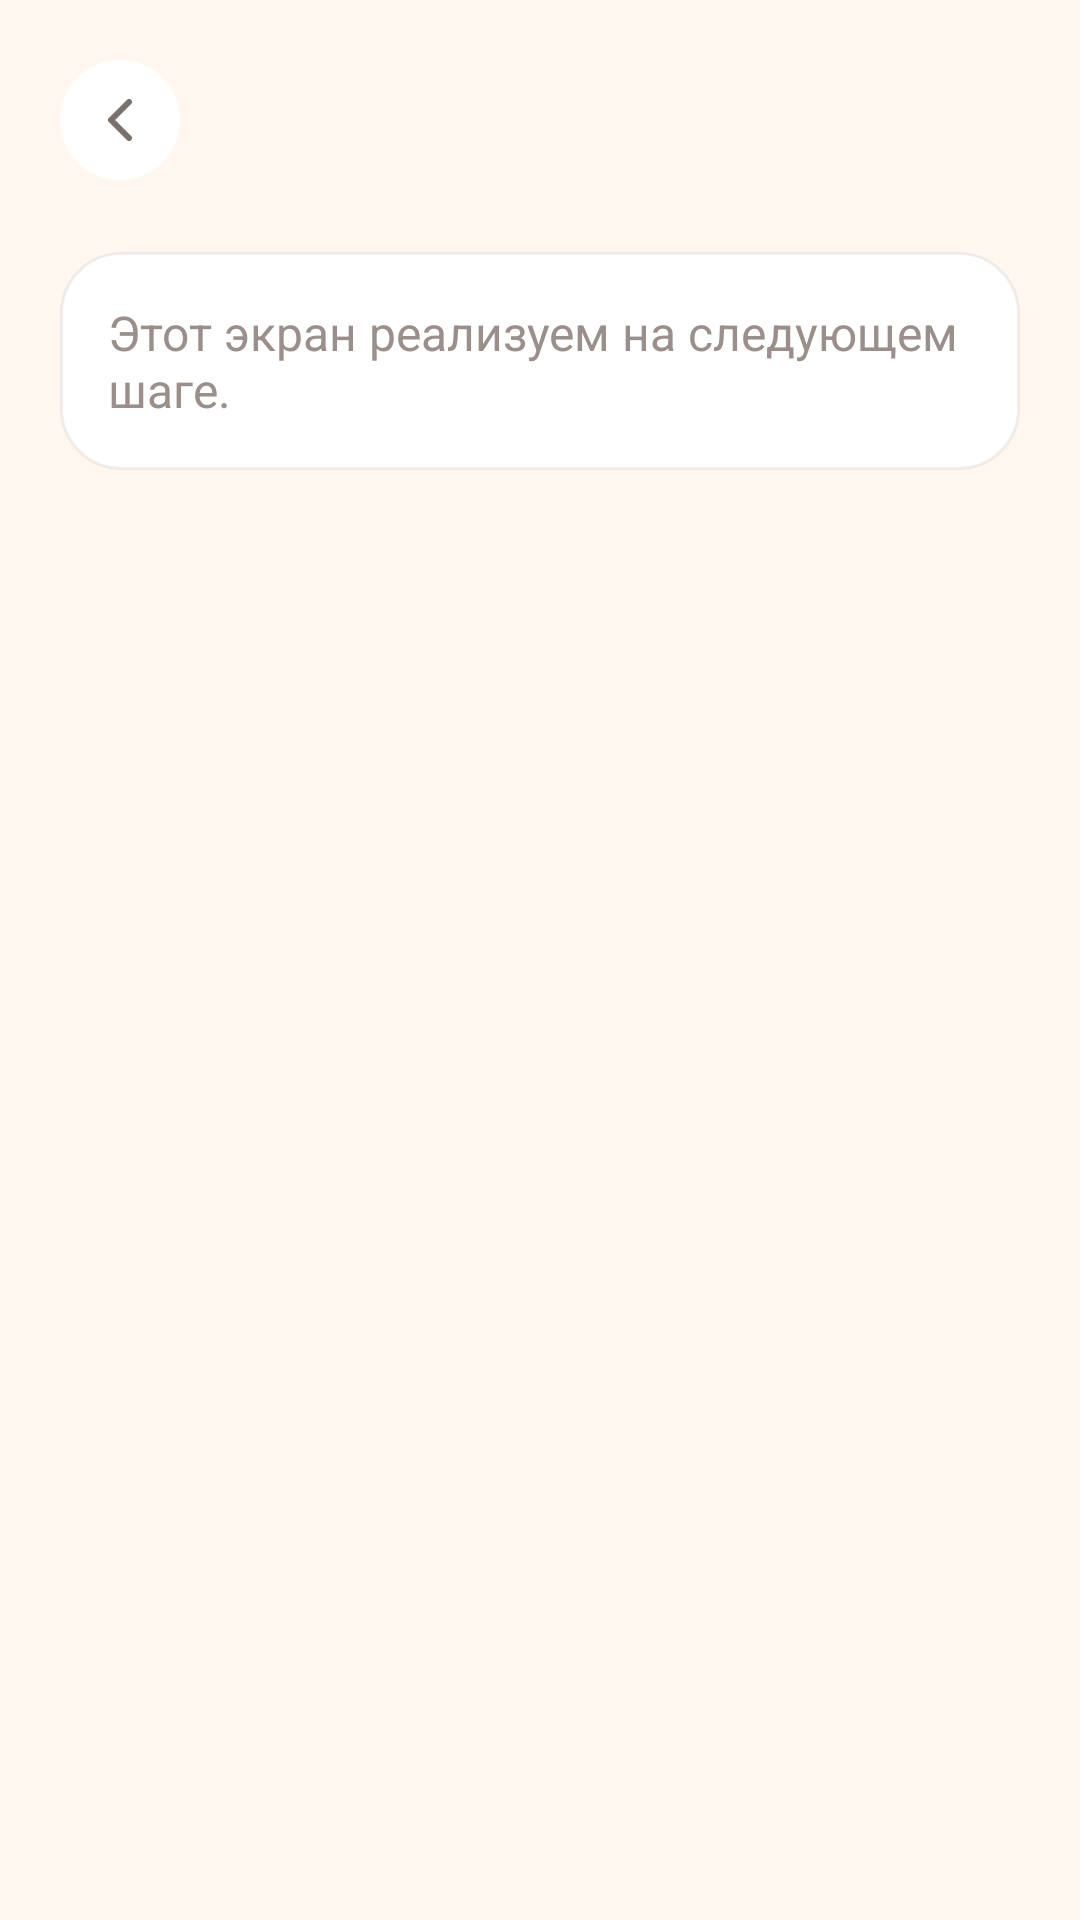

Where icons sit on this 1080px x 1920px app screen, as (x1, y1, x2, y2):
Назад: (60, 60, 180, 180)
